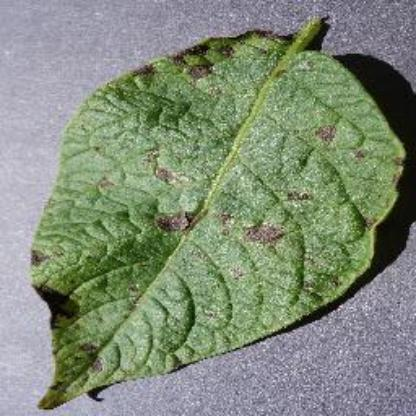Early-Blight: (26, 16, 408, 412)
